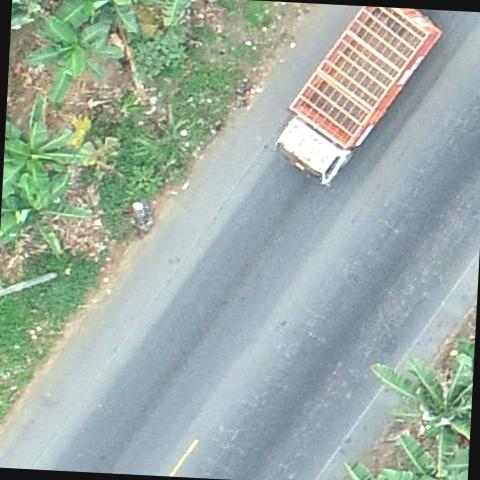Banana-plant: (362, 338, 474, 480), (18, 9, 134, 110), (2, 92, 92, 206), (0, 165, 97, 258)
